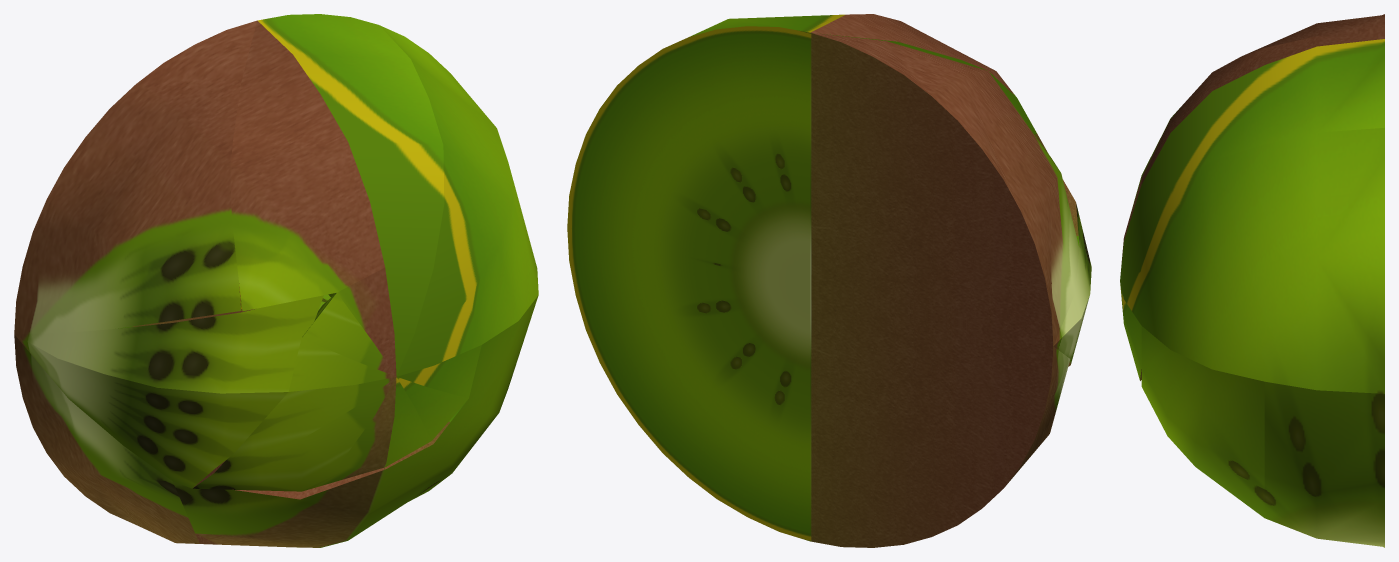
File: Kiwi_piece.fbx
3 renders of one model, left to right at view 1: azimuth 30°, elevation 25°; view 2: azimuth 150°, elevation 25°; view 3: azimuth 270°, elevation 25°, orthographic. The views are drawn at different scales.
Parts seen in each view (by area): view 1: polySurface106, polySurface86, polySurface97, polySurface98, polySurface129, polySurface84, polySurface130, polySurface117, polySurface122, polySurface107, polySurface132; view 2: polySurface106, polySurface117, polySurface114, polySurface98, polySurface97, polySurface86, polySurface84; view 3: polySurface98, polySurface97, polySurface114, polySurface107, polySurface86, polySurface106, polySurface129.
Boxes of the visible parts, left/top/right/bottom form: polySurface106: left=14, top=20, right=256, bottom=334; polySurface86: left=230, top=21, right=384, bottom=311; polySurface97: left=257, top=14, right=444, bottom=375; polySurface98: left=379, top=25, right=538, bottom=376; polySurface129: left=192, top=294, right=481, bottom=491; polySurface84: left=15, top=295, right=323, bottom=393; polySurface130: left=15, top=335, right=288, bottom=488; polySurface117: left=14, top=334, right=217, bottom=544; polySurface122: left=173, top=468, right=384, bottom=547; polySurface107: left=348, top=295, right=538, bottom=540; polySurface132: left=288, top=267, right=396, bottom=391; polySurface106: left=810, top=32, right=1079, bottom=346; polySurface117: left=810, top=287, right=1070, bottom=547; polySurface114: left=567, top=228, right=810, bottom=541; polySurface98: left=567, top=37, right=809, bottom=286; polySurface97: left=689, top=14, right=845, bottom=286; polySurface86: left=811, top=14, right=1048, bottom=153; polySurface84: left=1053, top=180, right=1091, bottom=345; polySurface98: left=1120, top=127, right=1384, bottom=393; polySurface97: left=1120, top=39, right=1384, bottom=277; polySurface114: left=1264, top=381, right=1384, bottom=547; polySurface107: left=1141, top=326, right=1264, bottom=517; polySurface86: left=1141, top=36, right=1382, bottom=183; polySurface106: left=1244, top=14, right=1384, bottom=55; polySurface129: left=1120, top=282, right=1141, bottom=380.
Size of the model in its own units: 300 by 300 by 149.
